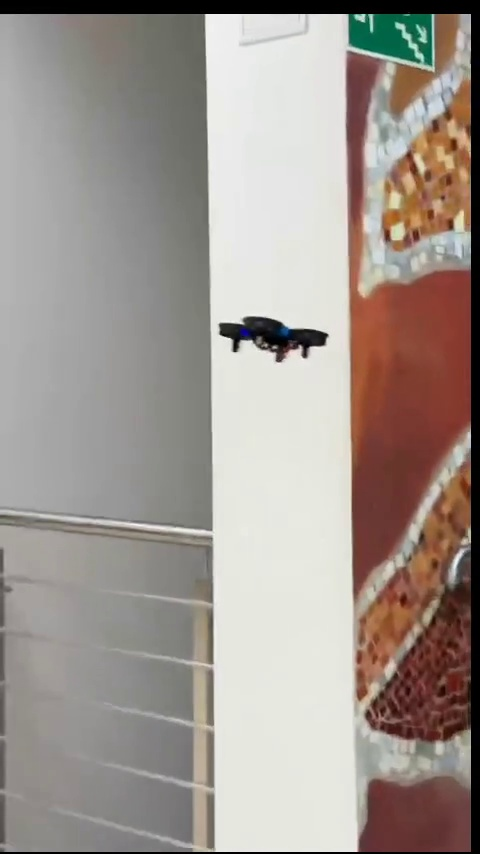drone: (222, 315, 330, 364)
